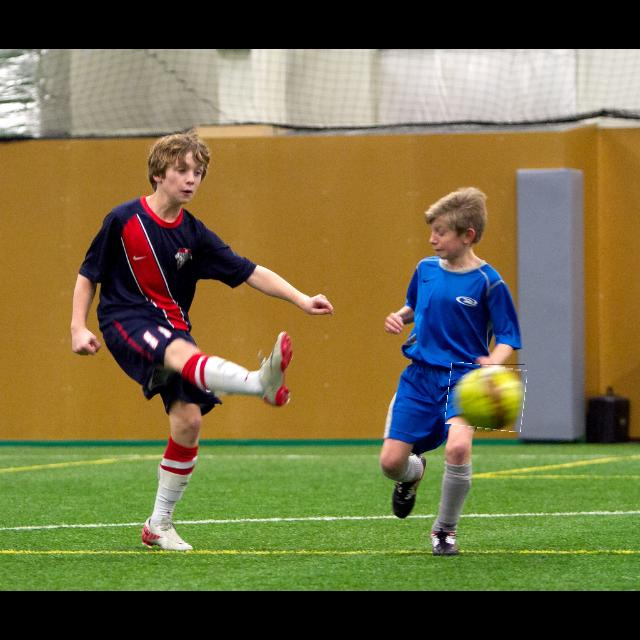Football: (447, 364, 525, 430)
